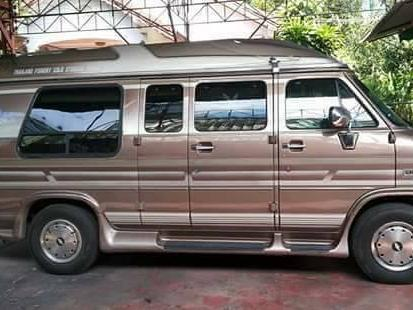van: (1, 41, 413, 282)
